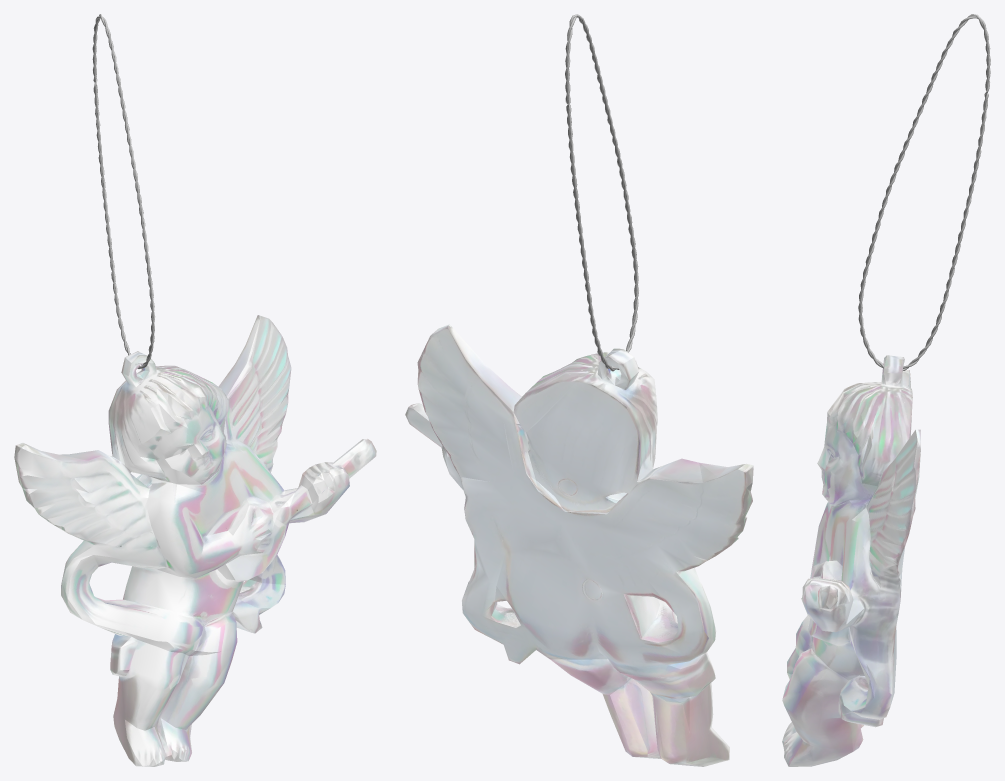
File: Cherub_with_Guitar.glb
The picture shows the model from 3 angles, left to right: view 1: azimuth 30°, elevation 25°; view 2: azimuth 150°, elevation 25°; view 3: azimuth 270°, elevation 25°; orthographic projection. The views are drawn at different scales.
Parts seen in each view (by area): view 1: Mesh1.0, GN Instance; view 2: Mesh1.0, GN Instance; view 3: Mesh1.0, GN Instance.
Boxes of the visible parts, x1,y1,x2,y2 form: Mesh1.0: [14, 315, 376, 766]; GN Instance: [92, 14, 155, 368]; Mesh1.0: [405, 324, 753, 766]; GN Instance: [565, 14, 638, 371]; Mesh1.0: [782, 355, 920, 766]; GN Instance: [858, 14, 990, 370].
Bounding box in the file's own units: 0.068 × 0.1366 × 0.0344.
2 materials, 1 textured.
